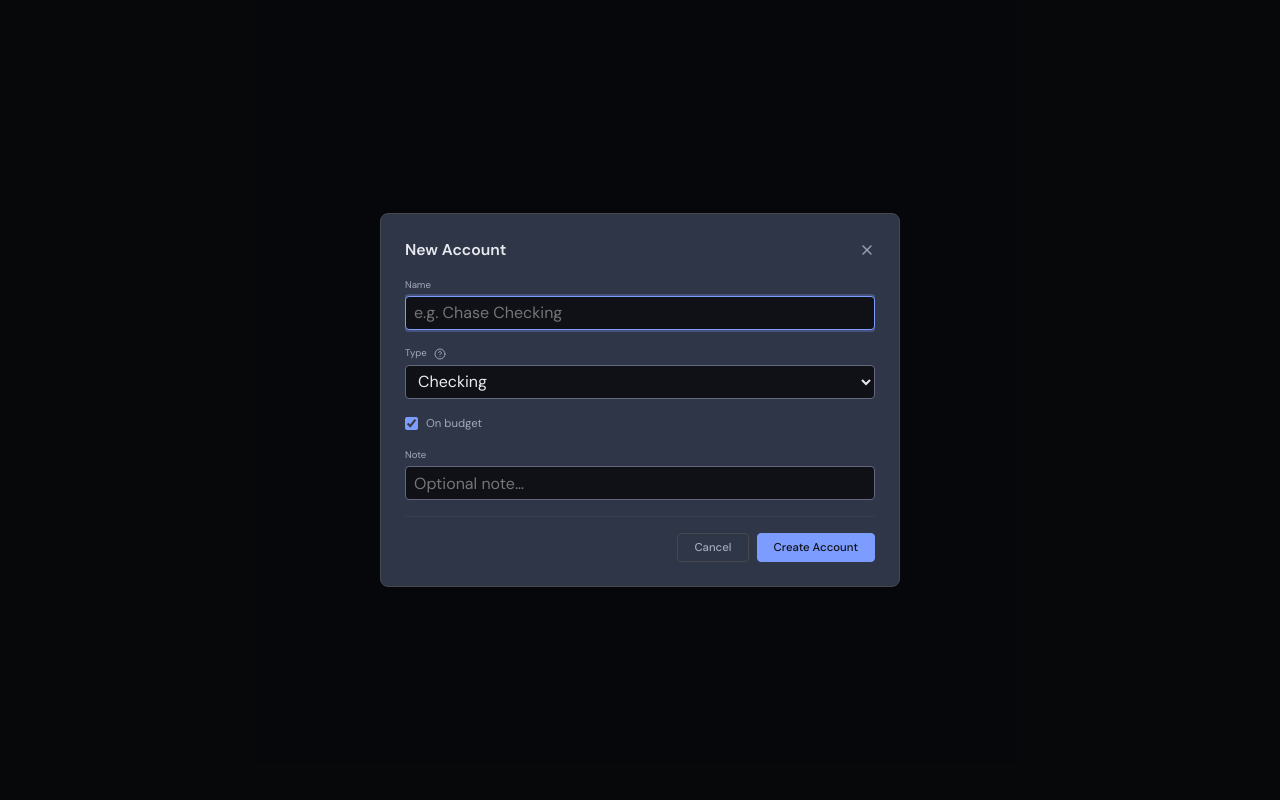
Scenario: AddAccountModal counts-as-savings toggle › arrives off for an Other Asset and on for an Investment
Select "Other Asset" in the dropdown at (640,382), box [405,365,875,399]
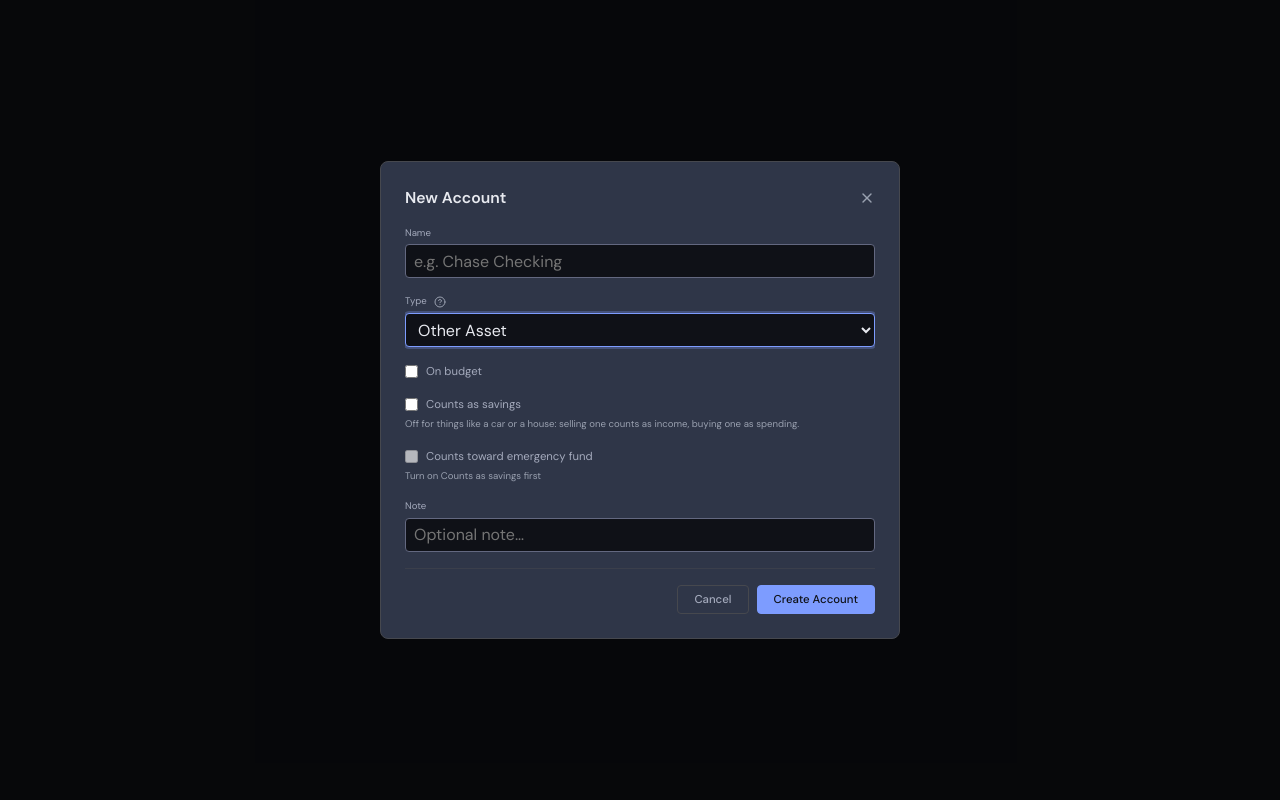
Expected: the checkbox labelled "Counts as savings" is not checked, [405,398,418,411]
Select "Investment" in the dropdown at (640,330), box [405,313,875,347]
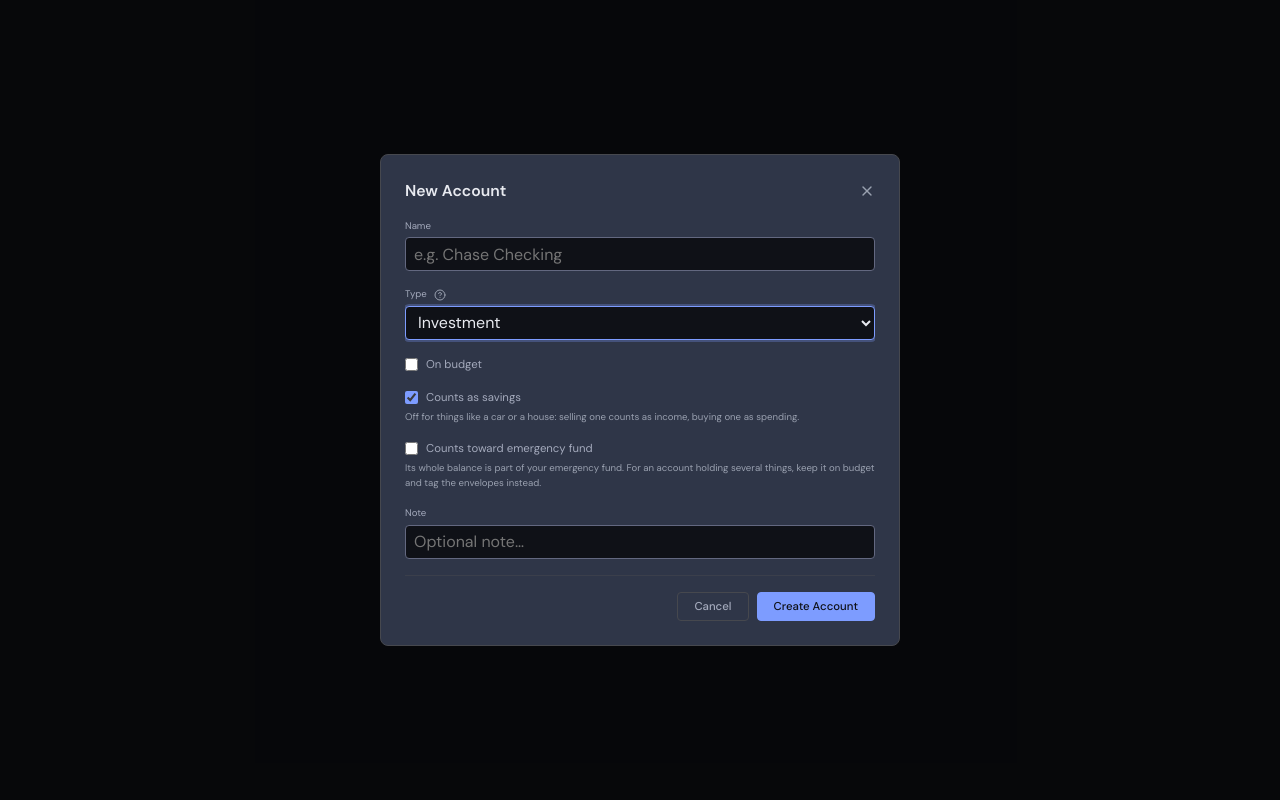
Expected: the checkbox labelled "Counts as savings" is checked, [405,391,418,404]
